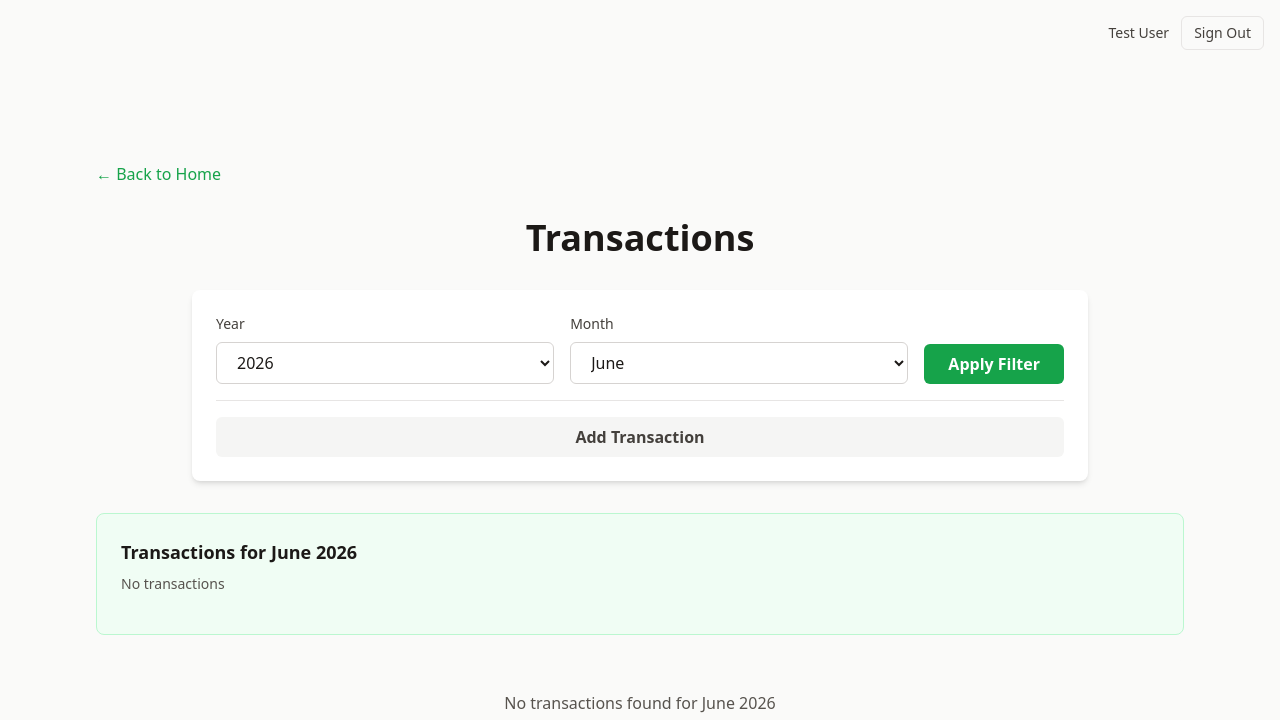
Transactions Page › allows user to select year and month and apply filter
The width and height of the screenshot is (1280, 720).
Select year
Select "2024" in the dropdown with id "year": [385, 363] box [216, 342, 554, 384]
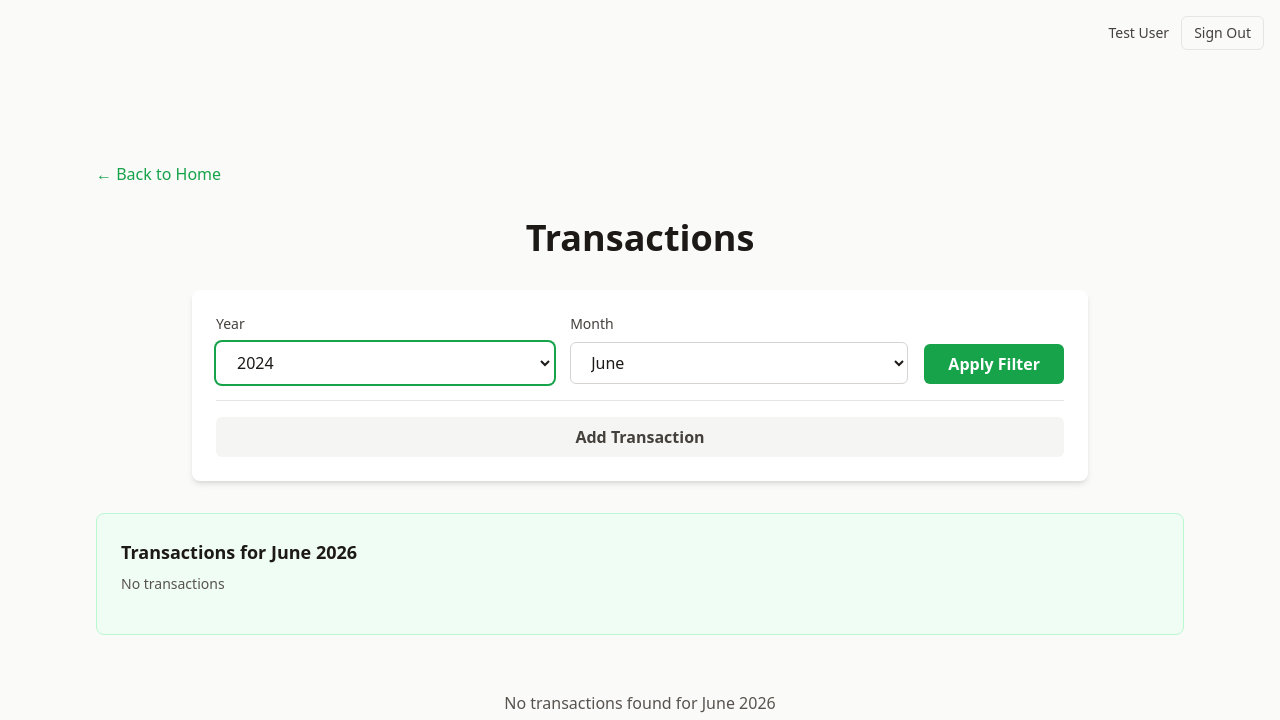
Select month
Select "June" in the dropdown with id "month": [739, 363] box [570, 342, 908, 384]
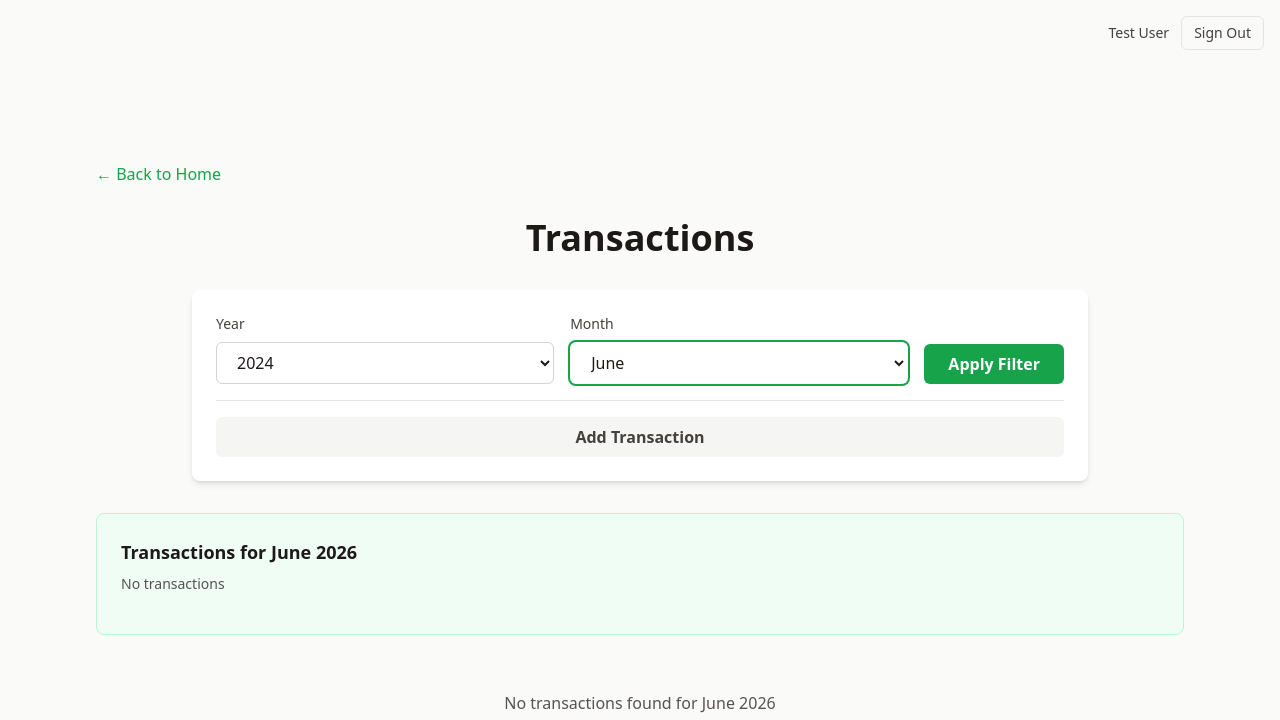
Click apply button
Click the button "Apply Filter": [994, 364] box [924, 344, 1064, 384]
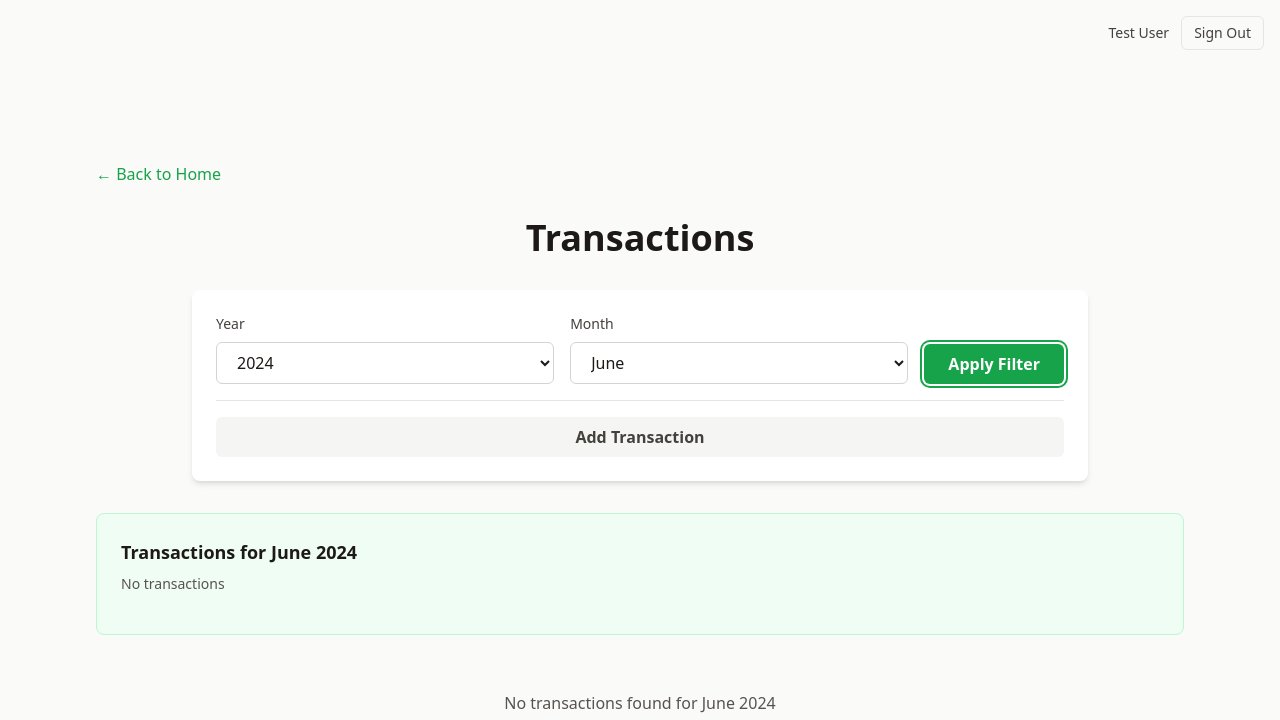
Check: the heading "Transactions for June 2024" is shown, box [121, 540, 357, 564]
